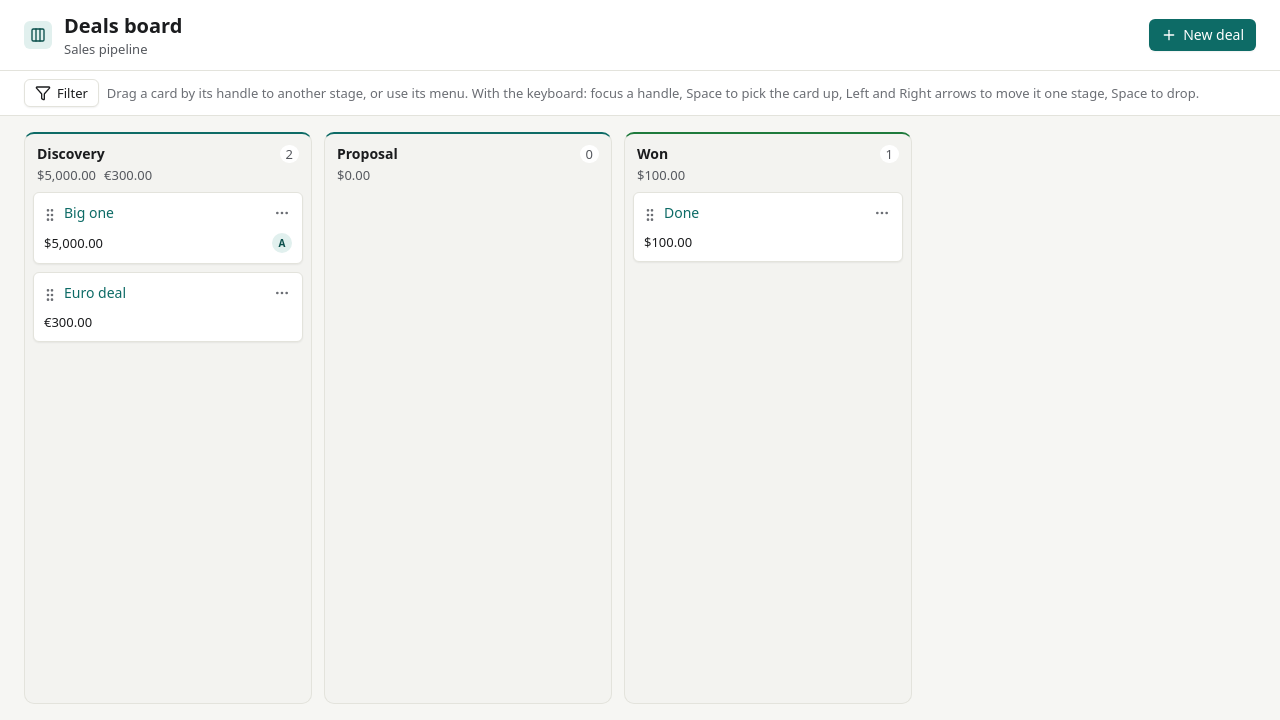
Test case: deals board › puts the card back and says why when the move is refused
The width and height of the screenshot is (1280, 720).
Click the button named "Move Big one".
click(282, 213)  # box [272,203,292,223]
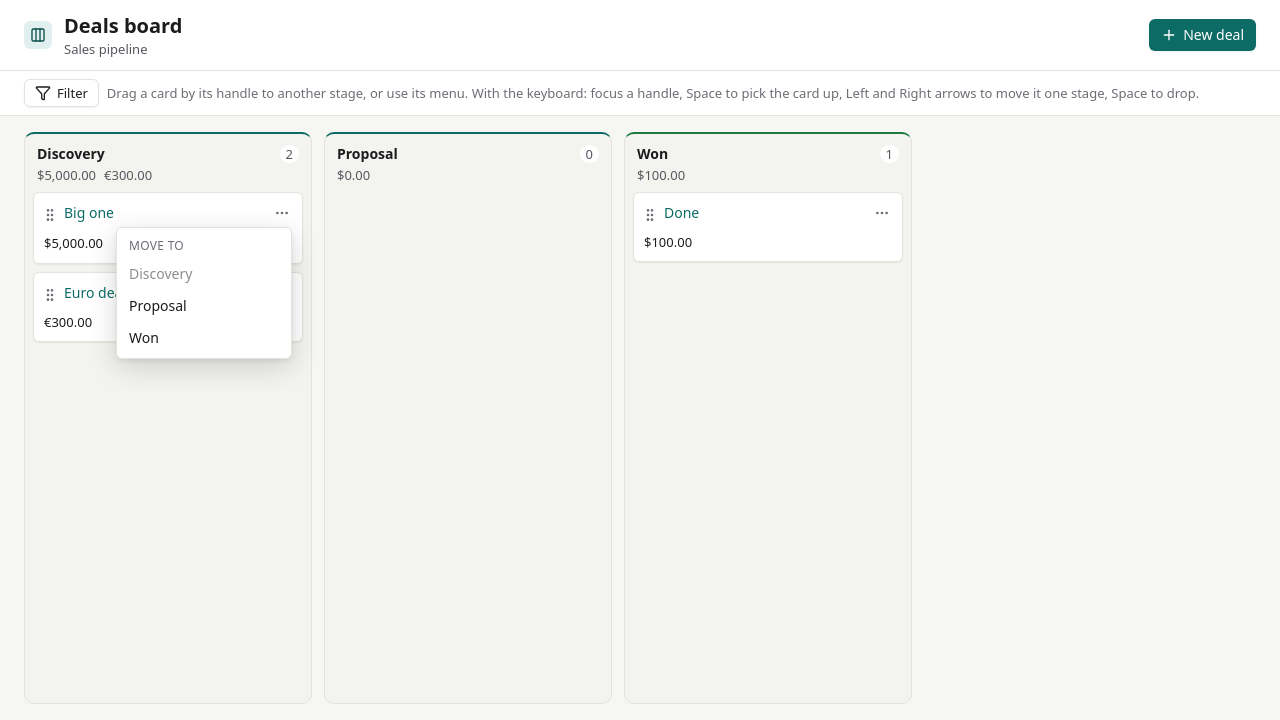
Click the menu item "Proposal".
click(158, 306)  # box [129,296,187,315]
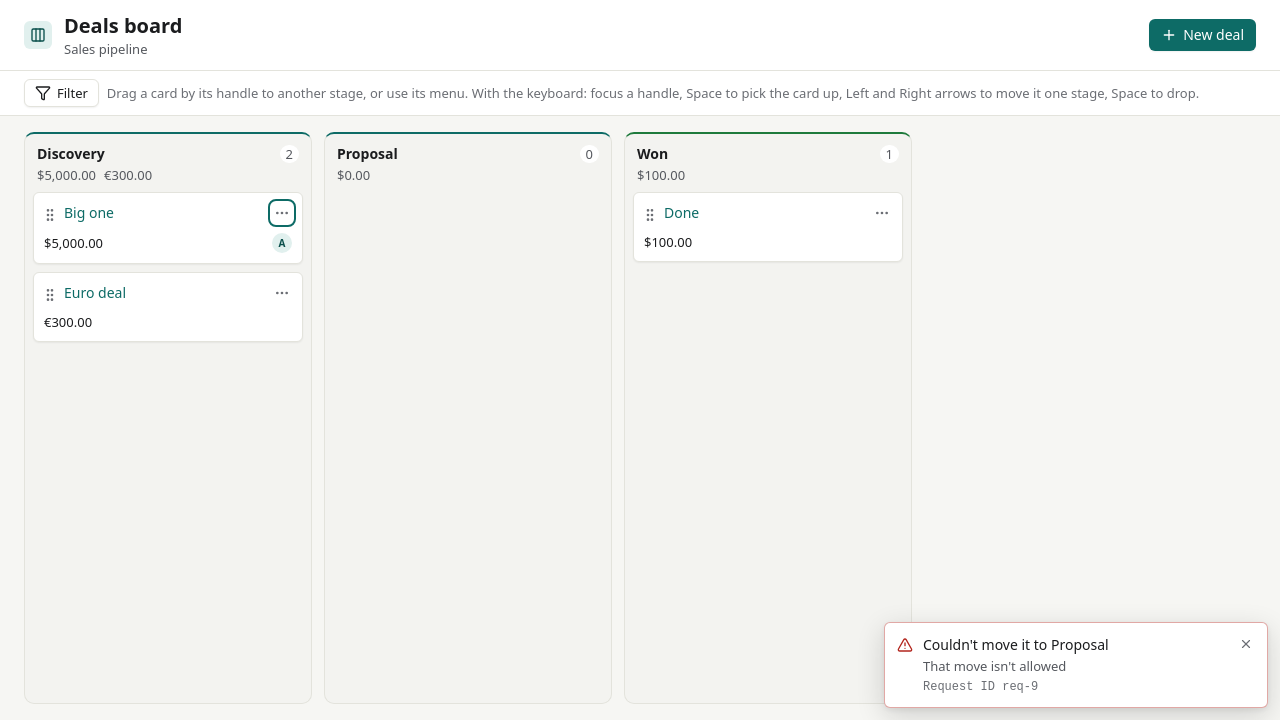
Check: the link "Big one" is shown, box [64,203,114,222]
Check: the text "That move isn't allowed" is shown, box [923,657,1066,675]
